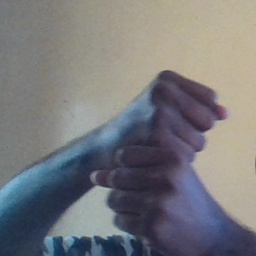G: (105, 69, 229, 237)
